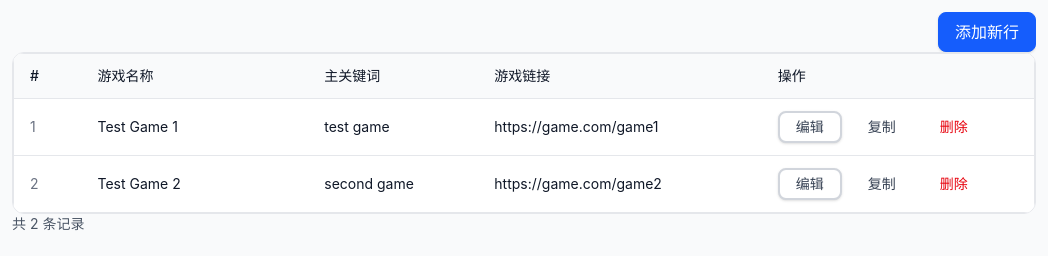
Test: EditableTable组件 › 应该支持取消编辑
The width and height of the screenshot is (1048, 256).
Click the button "编辑" in the row of "Test Game 1" at [810, 127], box [778,111,842,143]
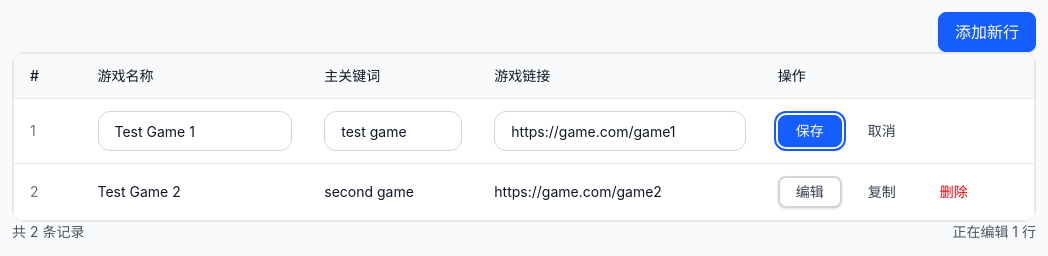
Replace the text in the 1st field showing "Test Game 1" with "Modified Game Name" at [195, 131], box [98,111,292,151]
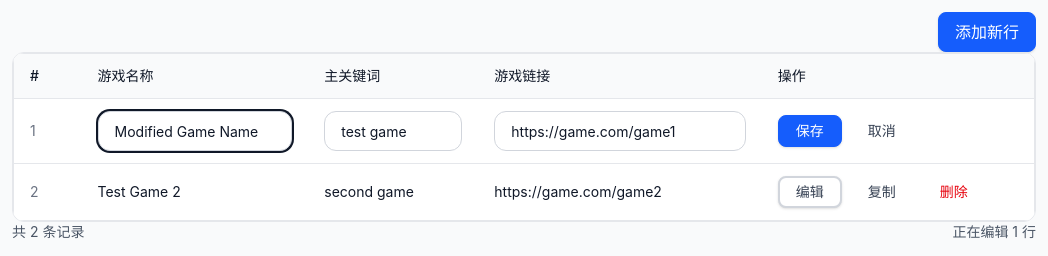
Click the button "取消" at [882, 131], box [850,115,914,147]
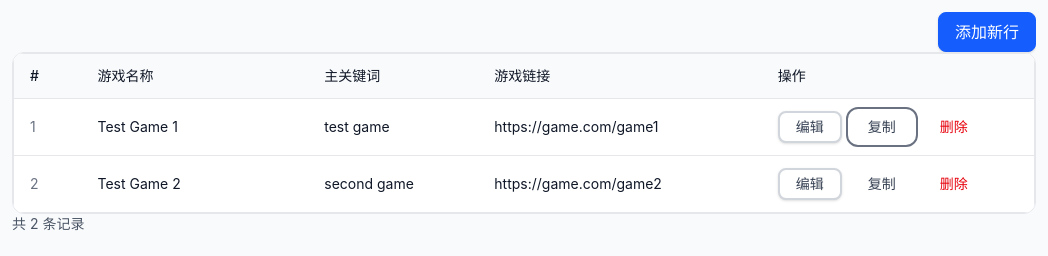
Check: the text "Modified Game Name" is not shown
Check: the text "Test Game 1" is shown, box [98,118,178,135]
